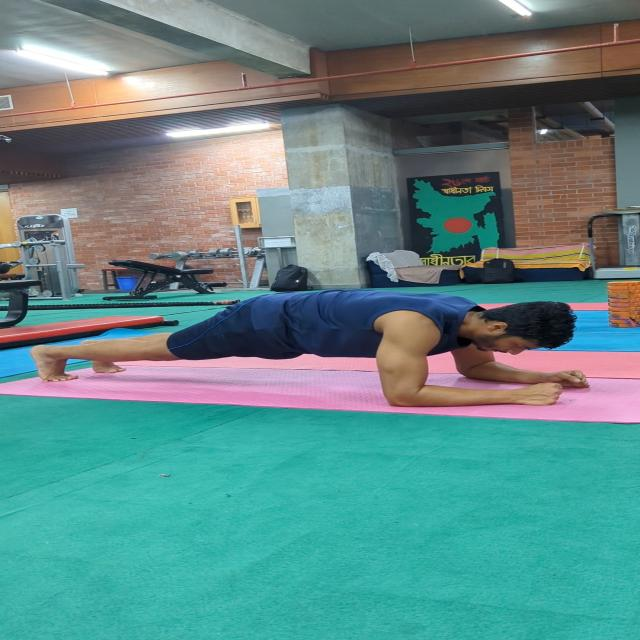Normal_Plunk: (35, 279, 610, 420)
